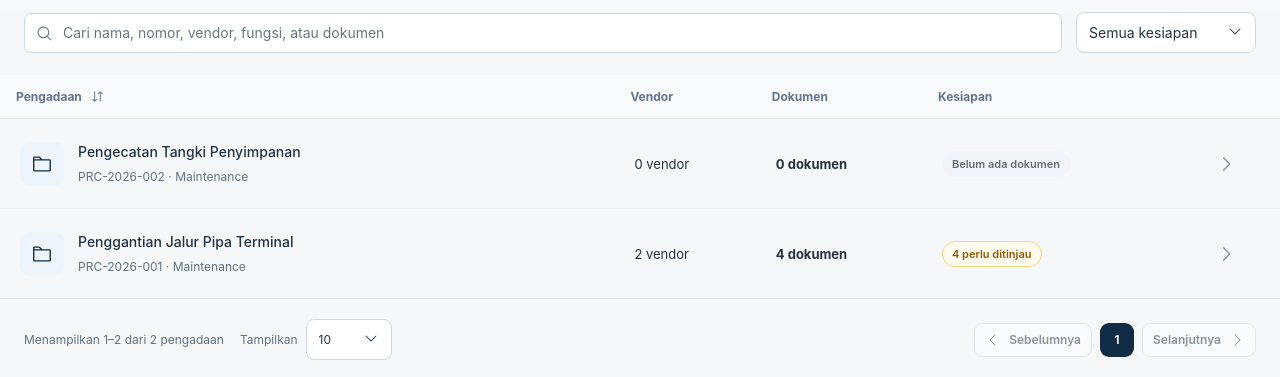
Pencarian pengadaan › menemukan pengadaan melalui vendor dan dokumen tanpa menampilkan pengadaan lain
This screenshot has width=1280, height=377.
Type "PT Nusa Teknik Mandiri" into the field named "Cari pengadaan" at (543, 32), box x1=24 y1=12 x2=1062 y2=52
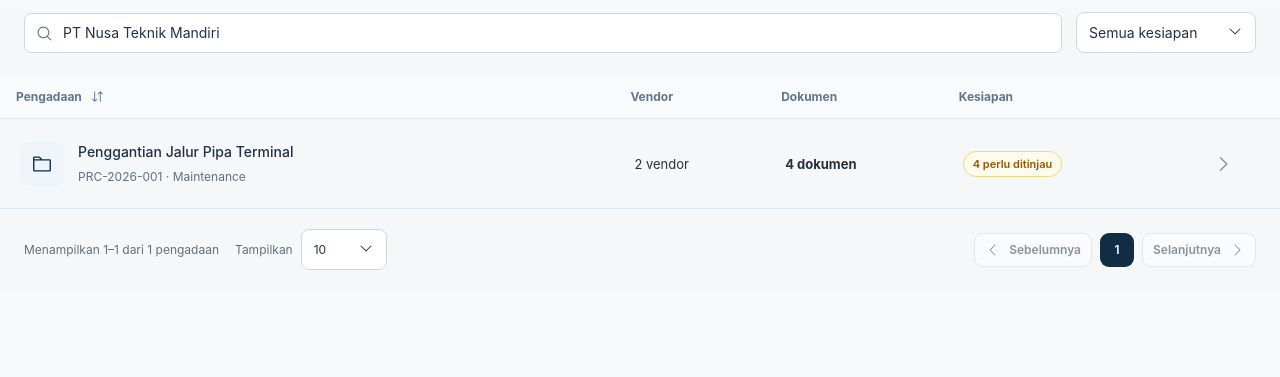
expect the link "Penggantian Jalur Pipa Terminal" is shown: met, box x1=78 y1=144 x2=294 y2=160
expect the link "Pengecatan Tangki Penyimpanan" is gone: met
Replace the text in the field named "Cari pengadaan" with "Form_A5_Nusa.pdf" at (543, 32), box x1=24 y1=12 x2=1062 y2=52
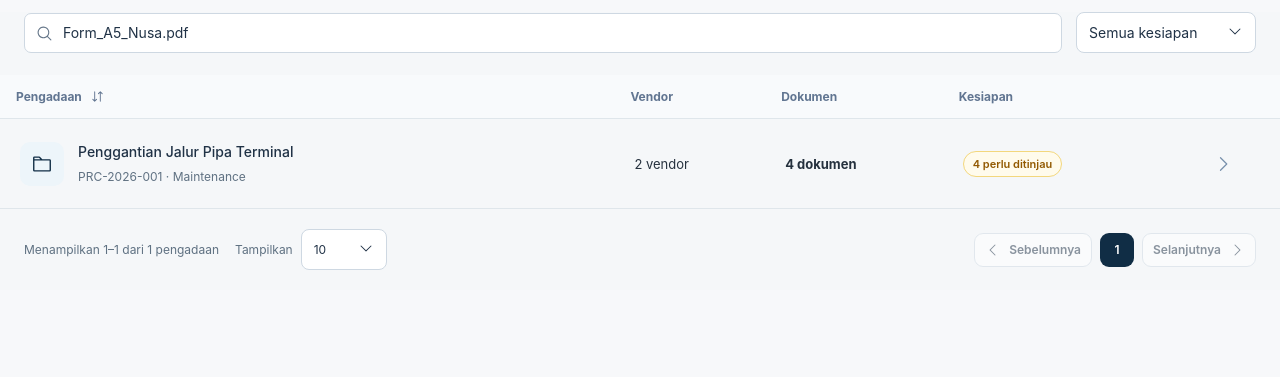
expect the link "Penggantian Jalur Pipa Terminal" is shown: met, box x1=78 y1=144 x2=294 y2=160
expect the link "Pengecatan Tangki Penyimpanan" is not shown: met
Replace the text in the field named "Cari pengadaan" with "tidak-ada-hasil" at (543, 32), box x1=24 y1=12 x2=1062 y2=52
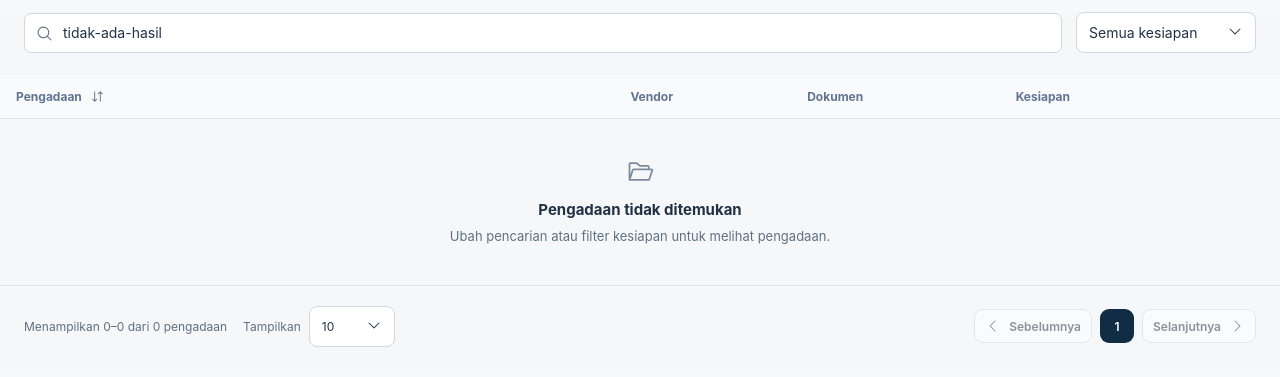
expect the heading "Pengadaan tidak ditemukan" is shown: met, box x1=538 y1=200 x2=742 y2=219
